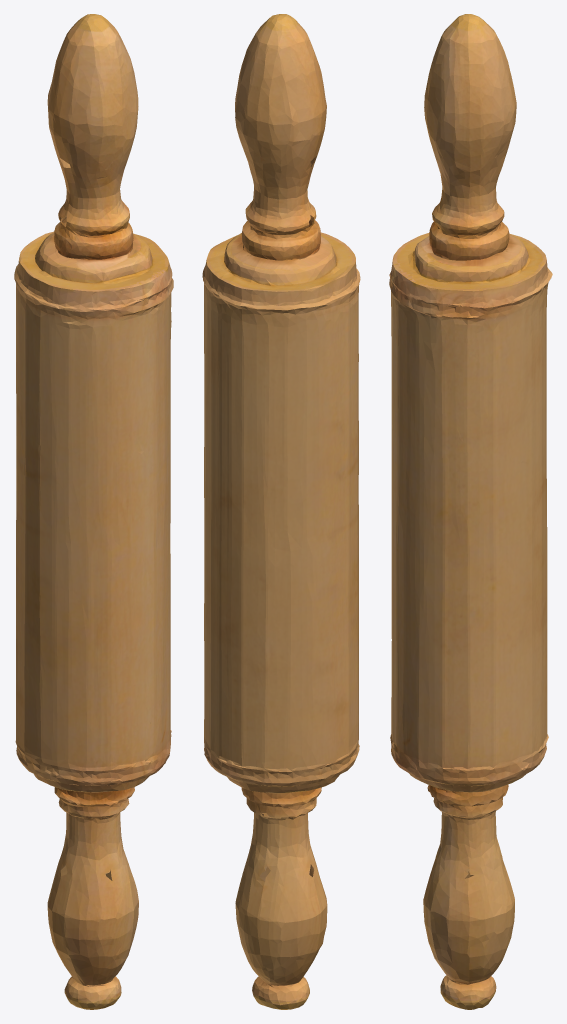
File: rolling_pin_simple_0422141844_texture.fbx
The picture shows the model from 3 angles, left to right: view 1: azimuth 30°, elevation 25°; view 2: azimuth 150°, elevation 25°; view 3: azimuth 270°, elevation 25°; orthographic projection.
Parts seen in each view (by area): view 1: temp; view 2: temp; view 3: temp.
Part boxes in pixels (<box>): temp: <box>14,14,173,1009</box>; temp: <box>202,14,360,1009</box>; temp: <box>389,14,552,1009</box>.
Size of the model in its own units: 29.34 by 200 by 30.18.
Materials: 1 (1 with a texture image).
